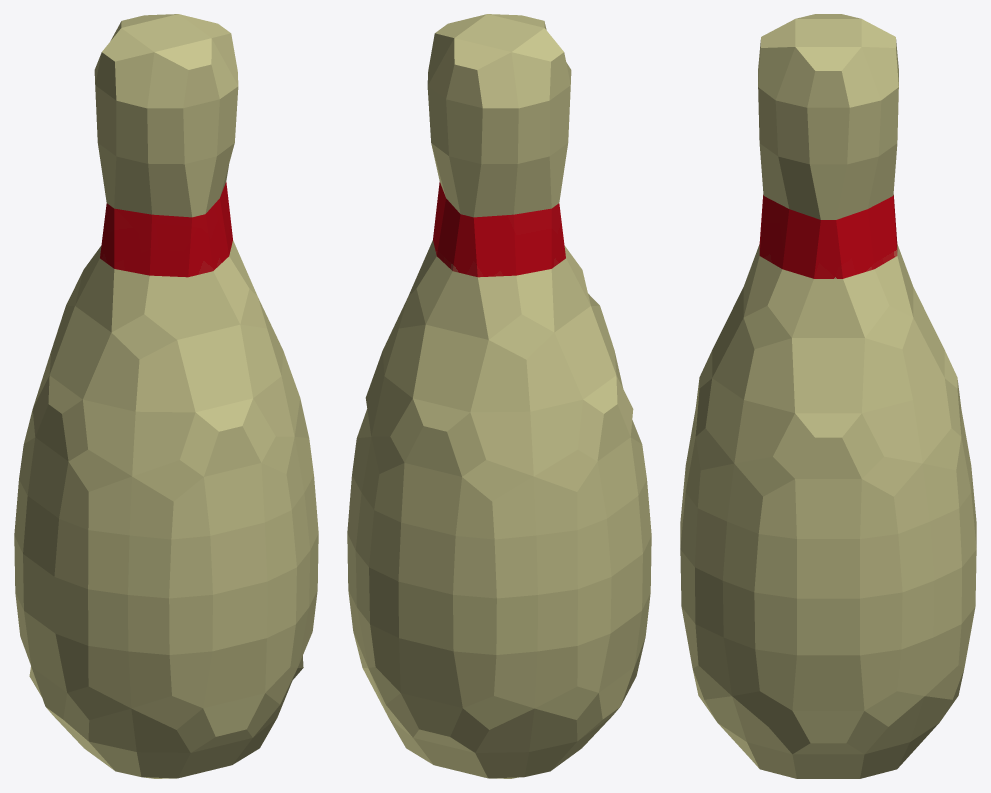
File: Bowling Pin.fbx
3 renders of one model, left to right at view 1: azimuth 30°, elevation 25°; view 2: azimuth 150°, elevation 25°; view 3: azimuth 270°, elevation 25°, orthographic.
Visible parts, largest first — view 1: BezierCurve; view 2: BezierCurve; view 3: BezierCurve.
Boxes of the visible parts, box(x1,y1,x2,y2) form: BezierCurve: box(14, 14, 318, 778); BezierCurve: box(347, 14, 651, 778); BezierCurve: box(680, 14, 976, 778).
Bounding box in the file's own units: 69.8 × 190 × 69.8.
